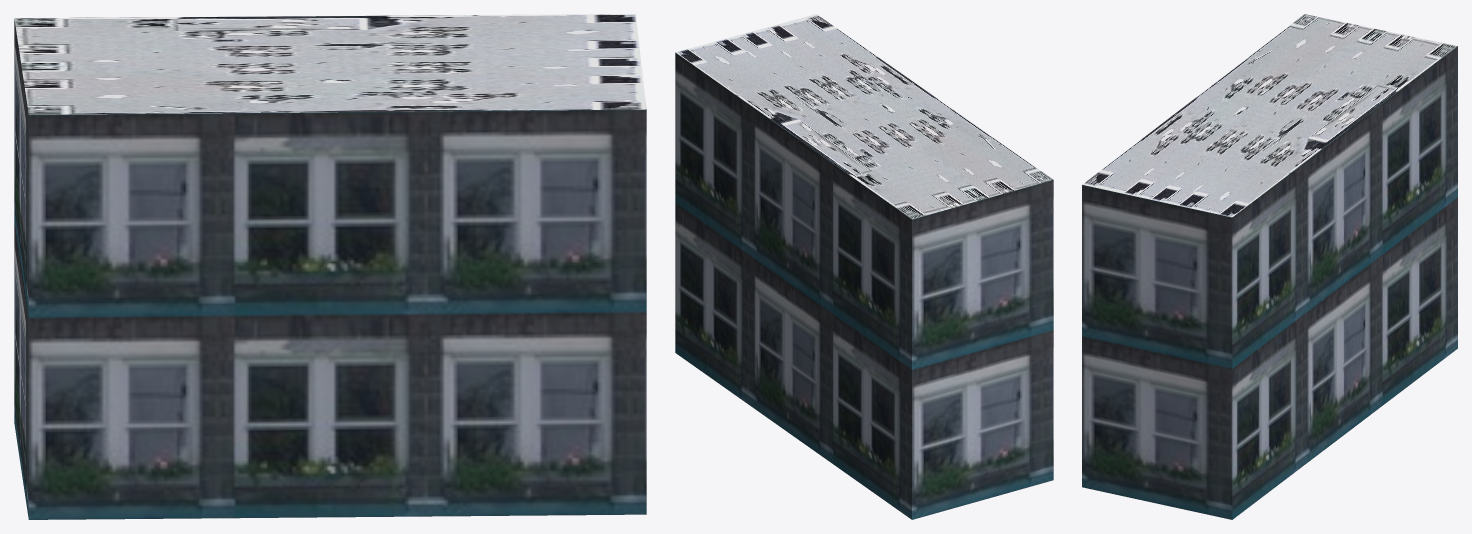
Rendered from ResTex__2546.fbx.
The picture shows the model from 3 angles, left to right: view 1: azimuth 30°, elevation 25°; view 2: azimuth 150°, elevation 25°; view 3: azimuth 270°, elevation 25°; orthographic projection. The views are drawn at different scales.
Visible parts, largest first — view 1: CityEngineMaterial_11_m, CityEngineMaterial_8_m; view 2: CityEngineMaterial_11_m, CityEngineMaterial_8_m; view 3: CityEngineMaterial_11_m, CityEngineMaterial_8_m.
Part boxes in pixels (x1,y1,x2,y2): CityEngineMaterial_11_m: [14, 19, 646, 519]; CityEngineMaterial_8_m: [14, 14, 646, 114]; CityEngineMaterial_11_m: [675, 52, 1053, 519]; CityEngineMaterial_8_m: [676, 14, 1053, 219]; CityEngineMaterial_11_m: [1082, 46, 1457, 519]; CityEngineMaterial_8_m: [1082, 14, 1457, 217].
Size of the model in its own units: 8.66 by 6 by 6.75.
2 materials, 2 textured.
